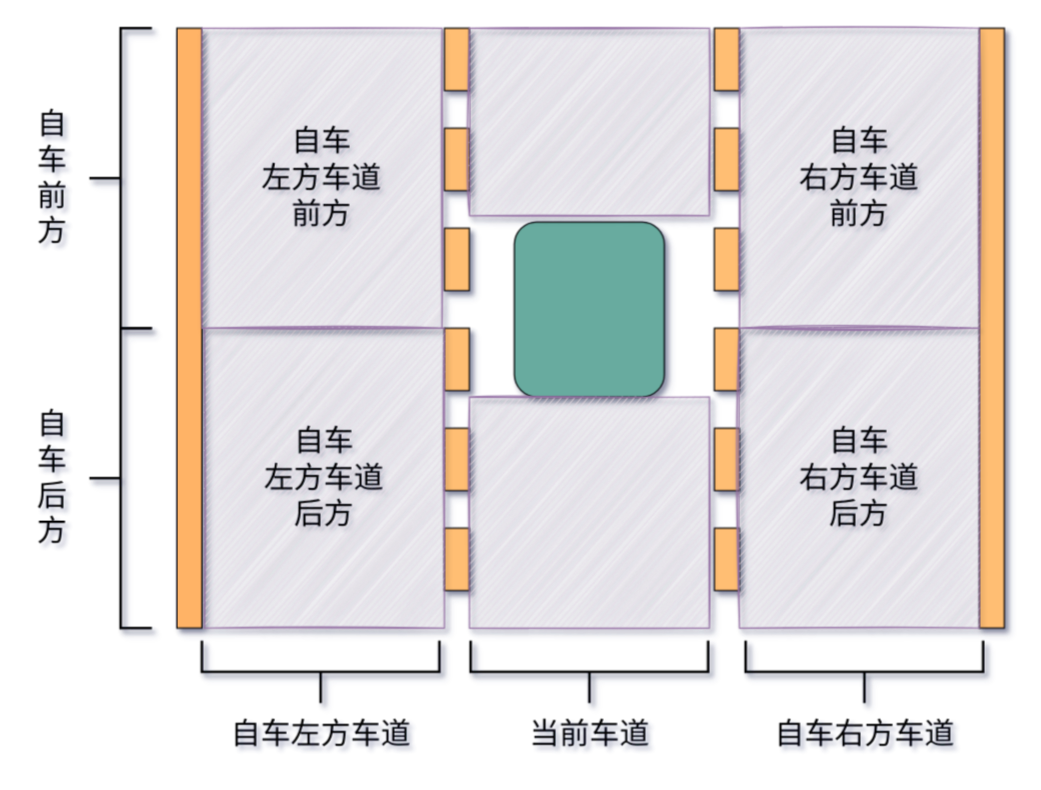
The diagram is 1041 pixels wide and 790 high, and some of its shapes have lost their labels. The shapes that lost their labels are listed below. From the top down, each one's centre as x and y in pixels, then its label:
At (590,123): "自车 当前车道 前方".
At (590,311): "自动驾驶车辆".
At (590,514): "自车 当前车道 后方".
